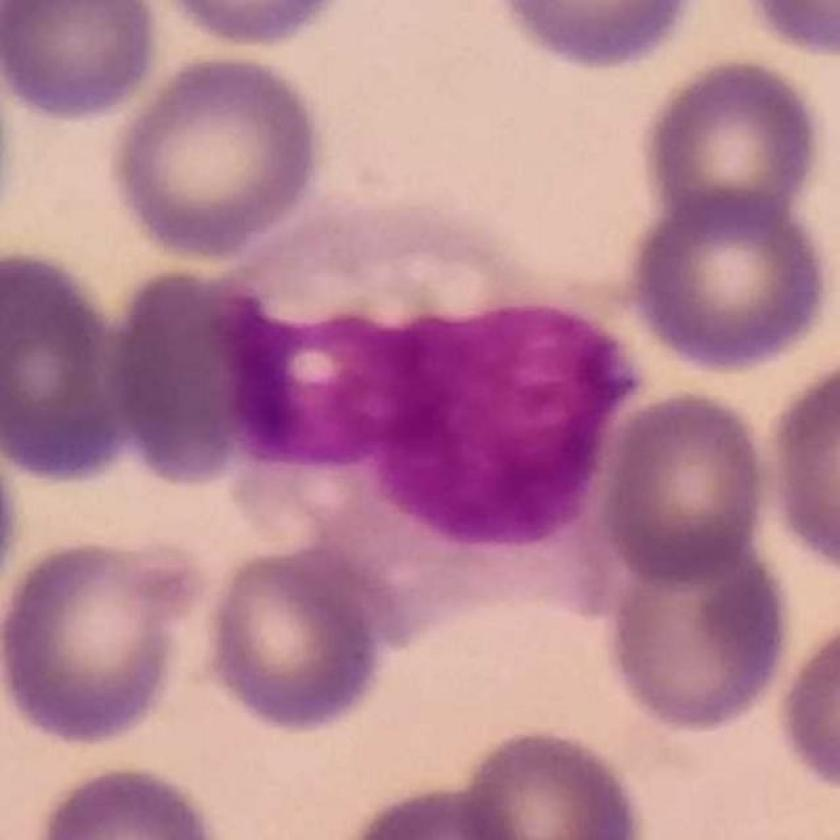monocyte: (184, 174, 651, 664)
